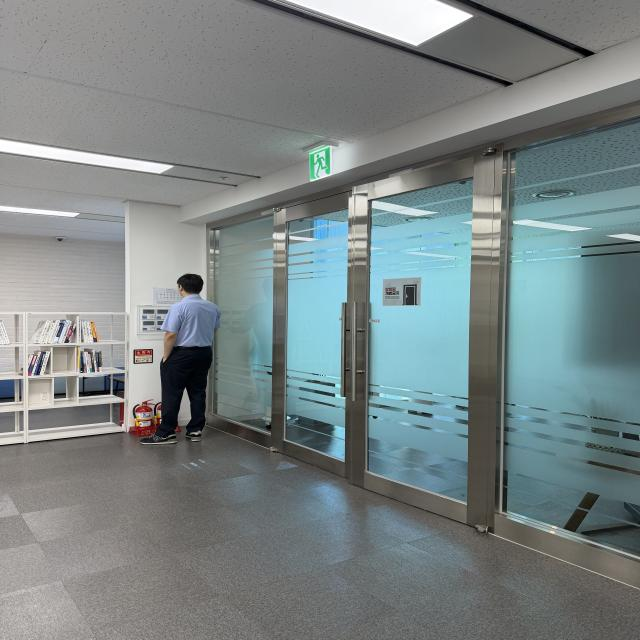front_door: (207, 105, 640, 587)
